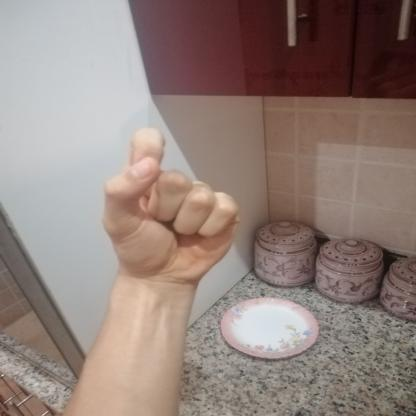FAA: (87, 114, 248, 292)
